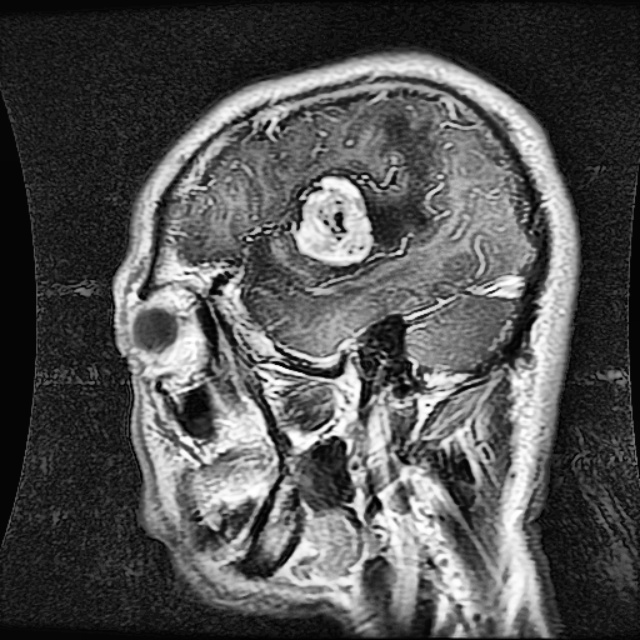Meningioma: (298, 179, 372, 265)
